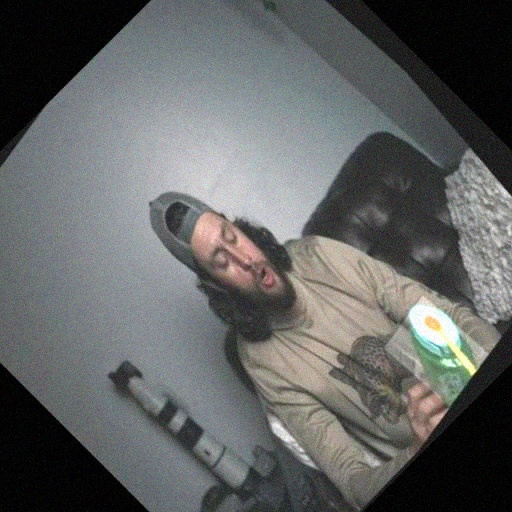bottle: (389, 290, 500, 400)
